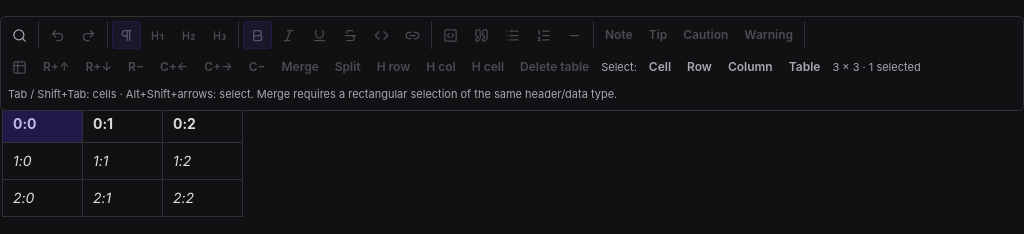
Test: Author table toolbar and malformed content safety › Reviewer can select table cells but cannot mutate
The image size is (1024, 234).
Expected: the button with aria-label "Merge selected cells" is disabled, [274,53,326,81]
Expected: the button with aria-label "Split cell" is disabled, [328,53,368,81]
What coordinates should you click on to do the following:
click the button with aria-label "Select table"
I would click on:
 (805, 67)
Its box is [782,53,827,81].
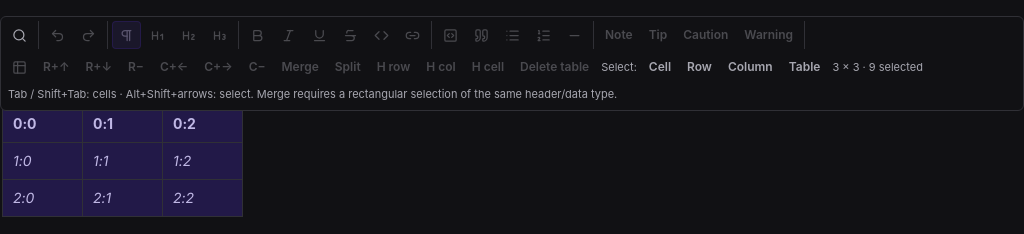
Now the number of cells with class "selectedCell" is 9
